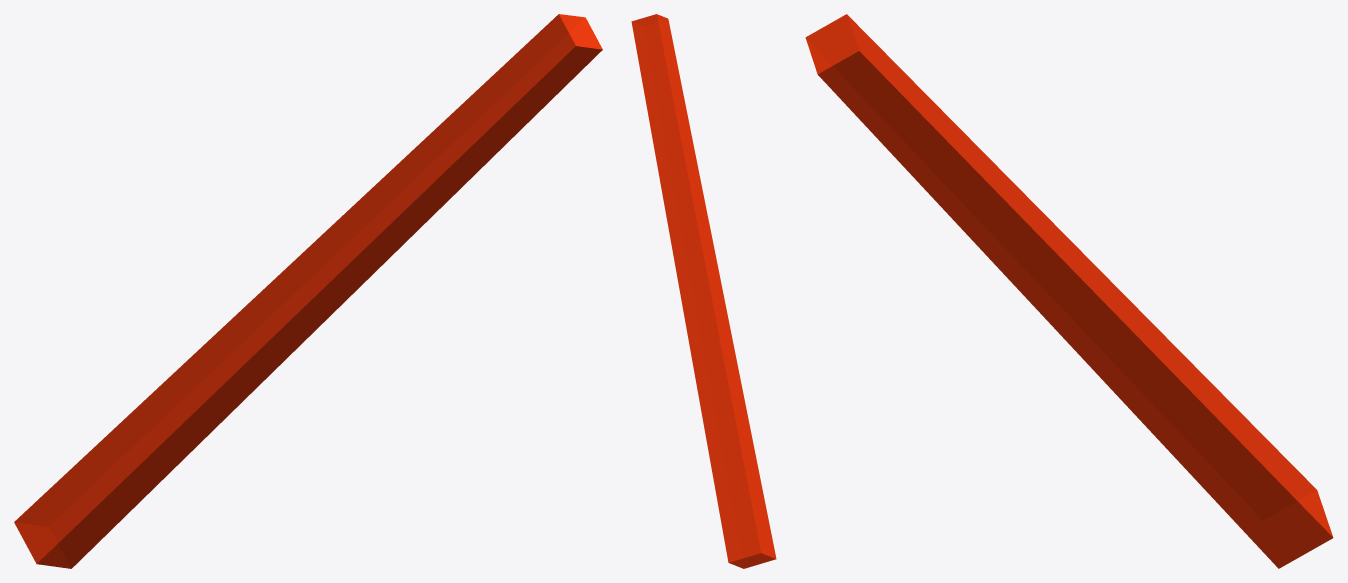
The model's file is Event_421127236_EBrechit_1.fbx.
3 renders of one model, left to right at view 1: azimuth 30°, elevation 25°; view 2: azimuth 150°, elevation 25°; view 3: azimuth 270°, elevation 25°, orthographic. The views are drawn at different scales.
Visible parts, largest first — view 1: Model; view 2: Model; view 3: Model.
Boxes of the visible parts, left/top/right/bottom form: Model: left=14, top=14, right=602, bottom=568; Model: left=631, top=14, right=776, bottom=568; Model: left=805, top=14, right=1333, bottom=568.
Bounding box in the file's own units: 0.6016 × 0.9211 × 0.5991.
